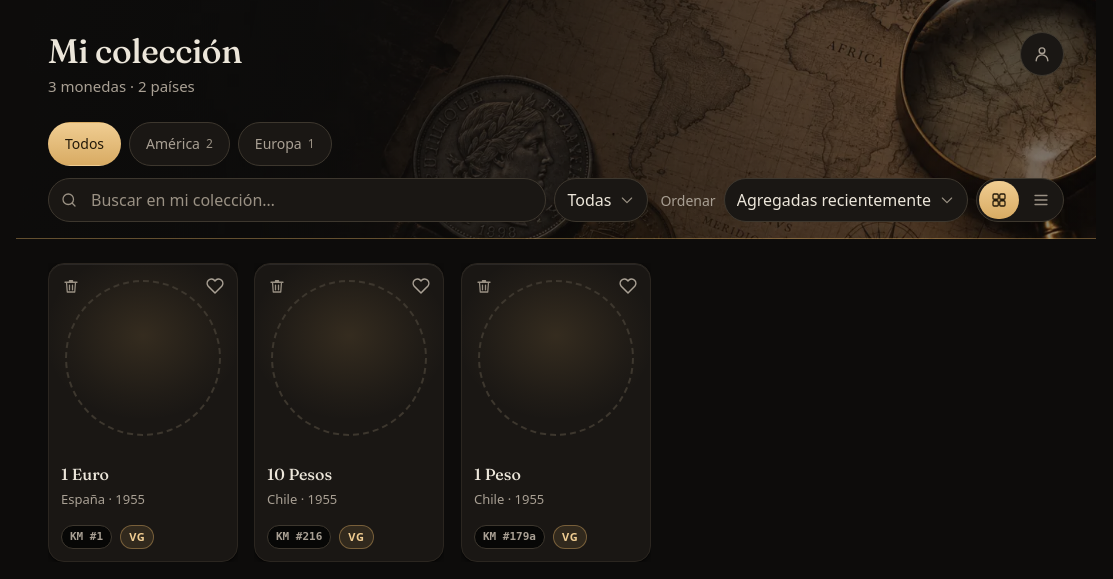
it: ordena por continente, país y KM
The width and height of the screenshot is (1113, 579).
Click the dropdown named "Ordenar". click: [846, 200]
box: [724,178,968,222]
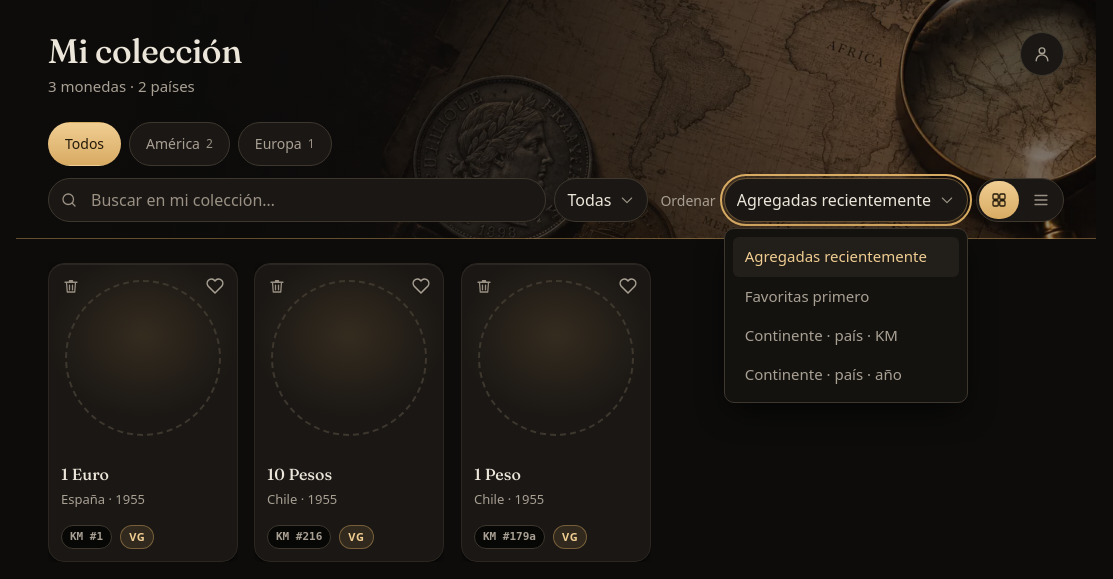
Click the option "Continente · país · KM". click: [821, 335]
box: [745,325,898,345]
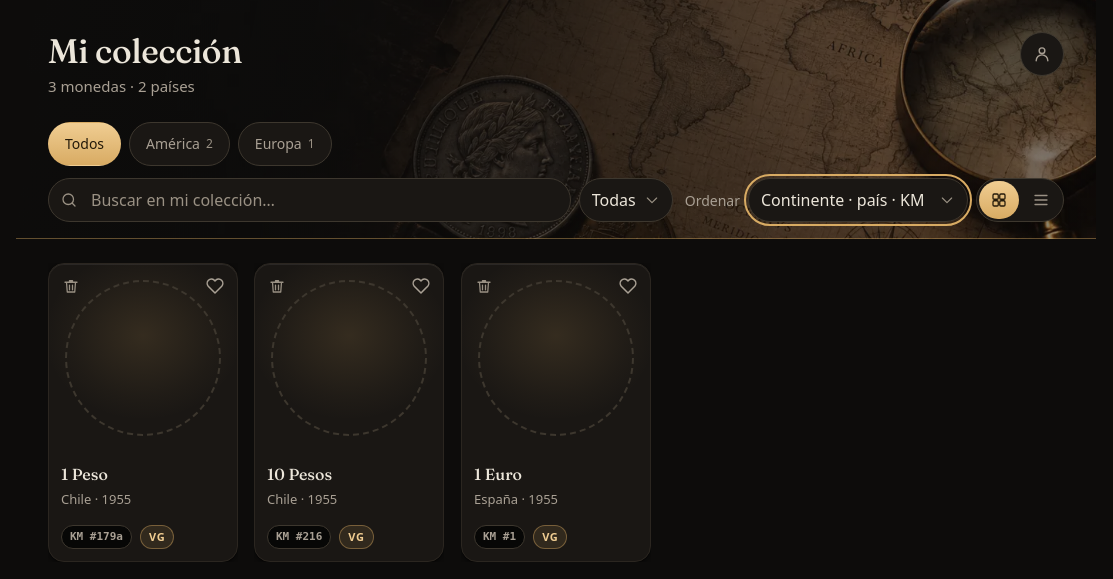
Result: the headings read "1 Peso", "10 Pesos", "1 Euro", in this order at [61,465,108,486]; [267,465,332,486]; [474,465,522,486]
